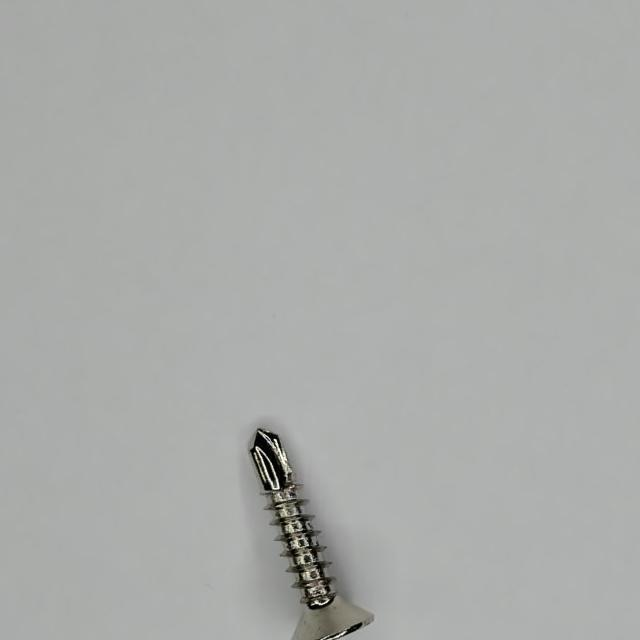Screw: (251, 430, 374, 640)
